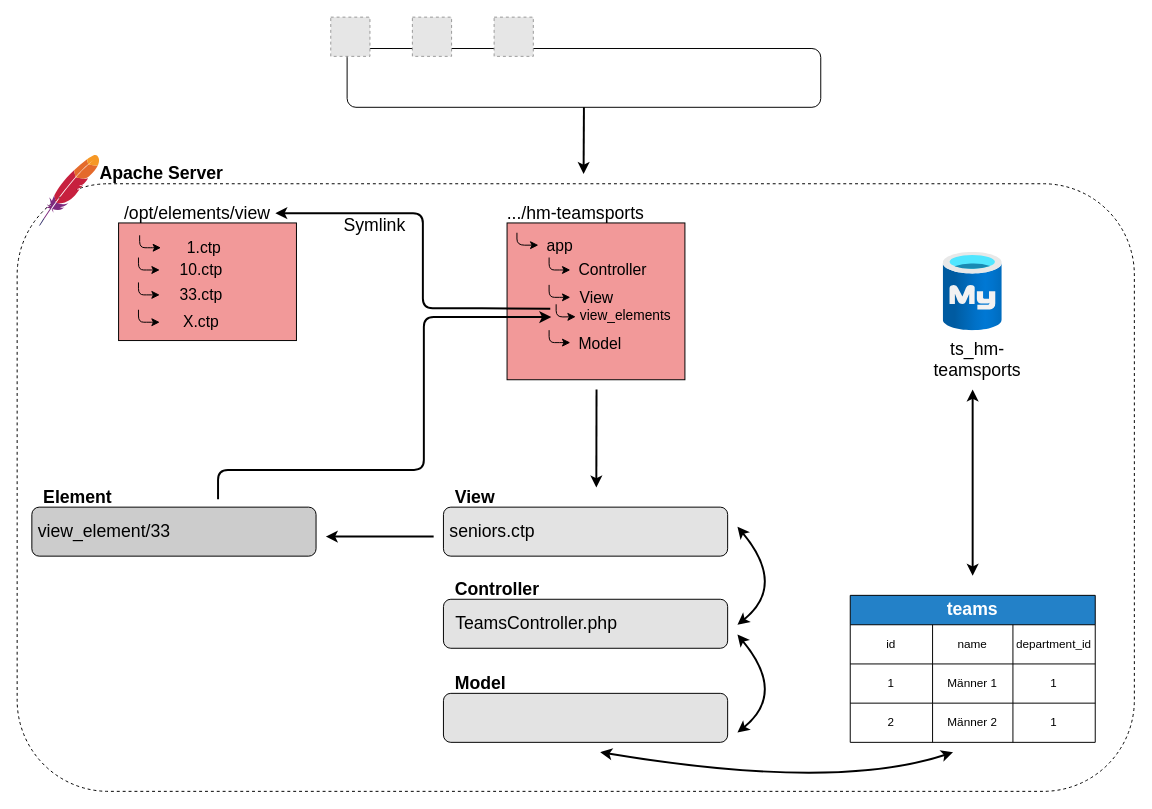
Some shapes in this 1152 by 809 pixel diagram are drawn without their labels. Grey dashed boxes stand in for pictures. The shapes that lost their labels are listed below. From the top down, each one's centre as x and y in pixels, then its label:
At point (583, 77): "hm-teamsports2.de/teams/seniors/1".
At point (585, 717): "Team.php".
